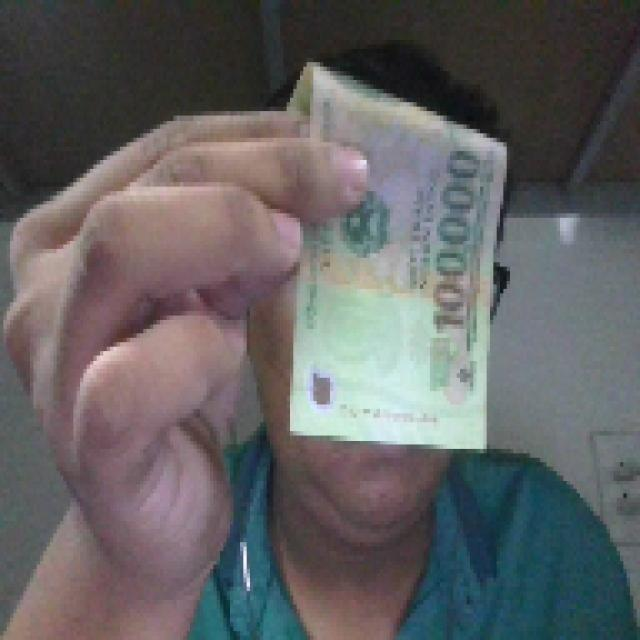100 000 VND: (283, 58, 510, 453)
